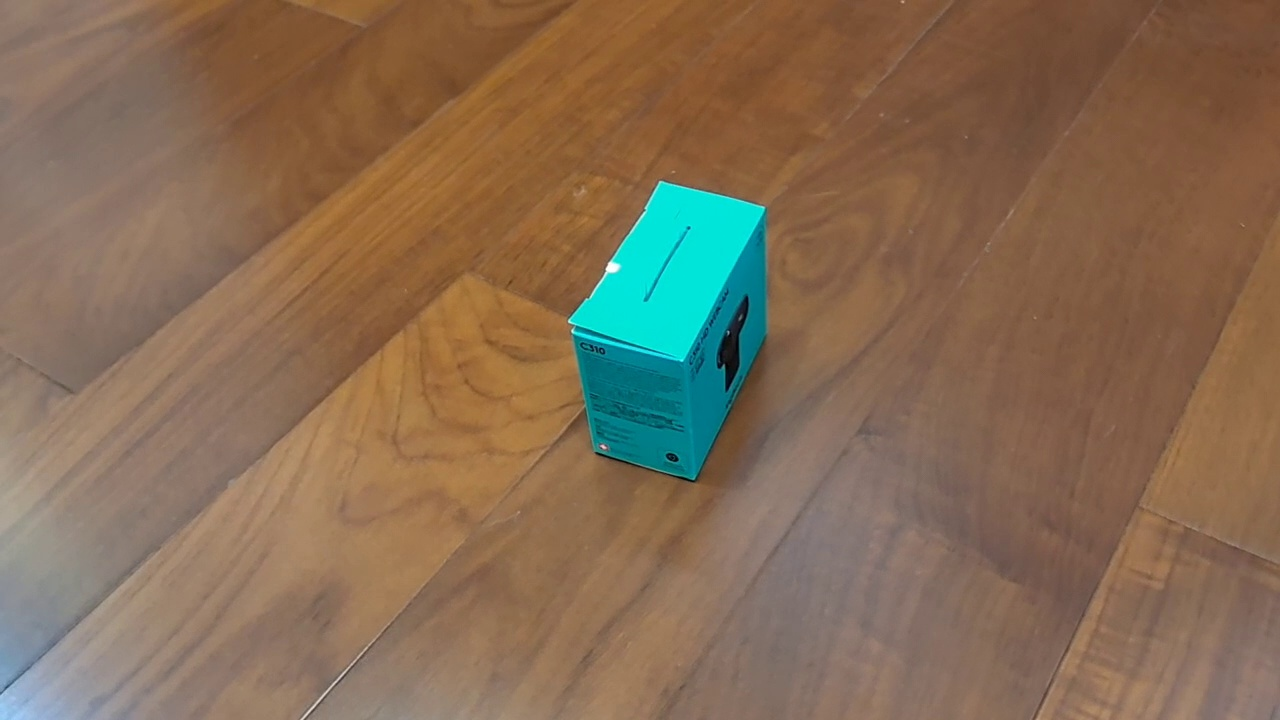webcam: (567, 179, 768, 483)
